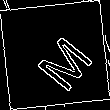M_NW: (21, 21, 89, 89)
